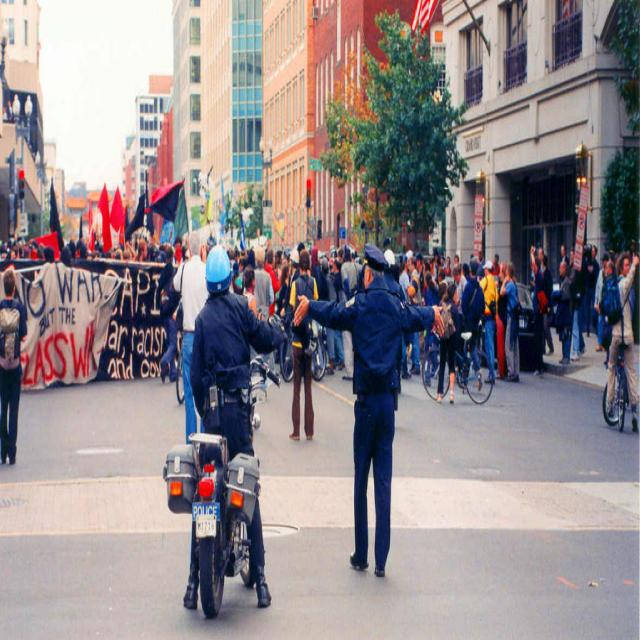Motorbikes: (162, 422, 266, 621)
Pedestrians: (294, 245, 446, 584)
